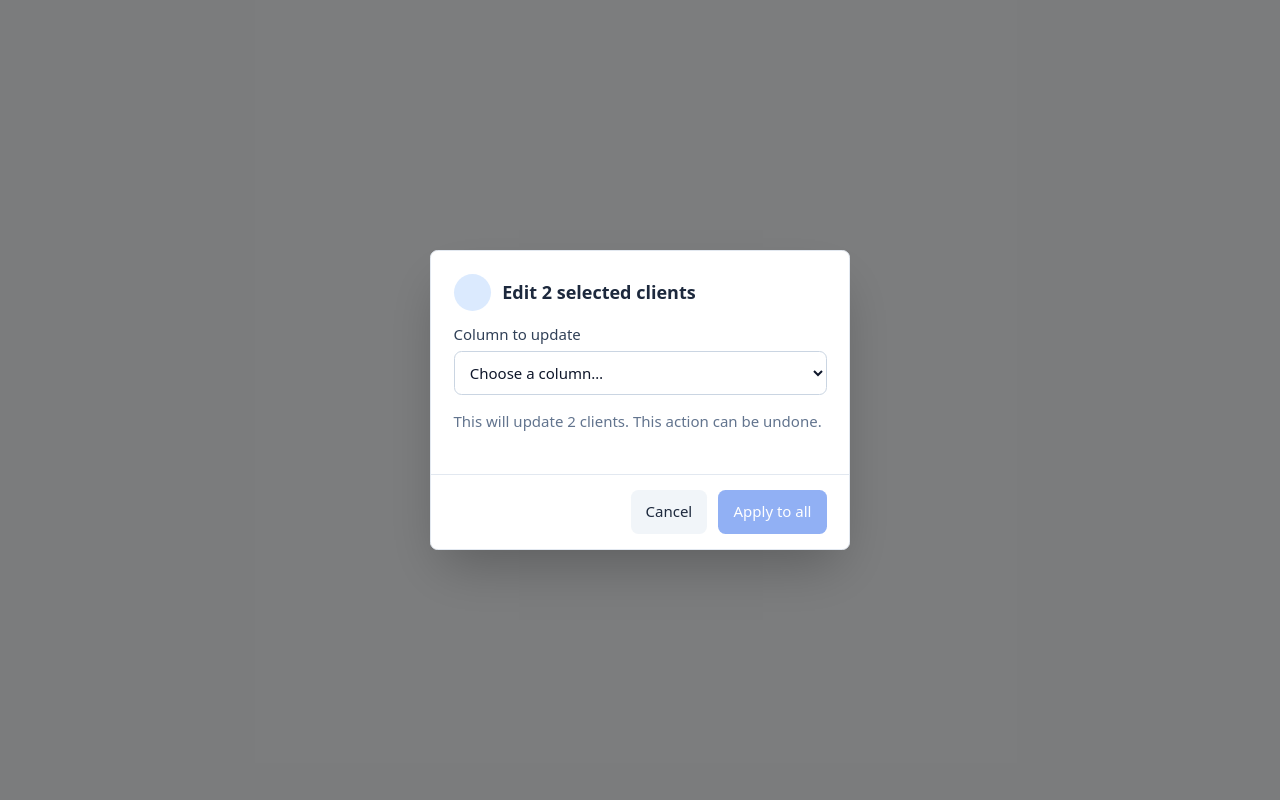
BulkEditDialog › starts on "Choose a column…" with Apply off, and lists the name column last with a warning (UX-B-11)
Expected: the button "Apply to all" is disabled, left=718, top=490, right=826, bottom=534
Expected: the field labelled "New value" is not shown
Select "Name (this renames them all)" in the dropdown labelled "Column to update" at (640, 373), box left=454, top=351, right=826, bottom=395
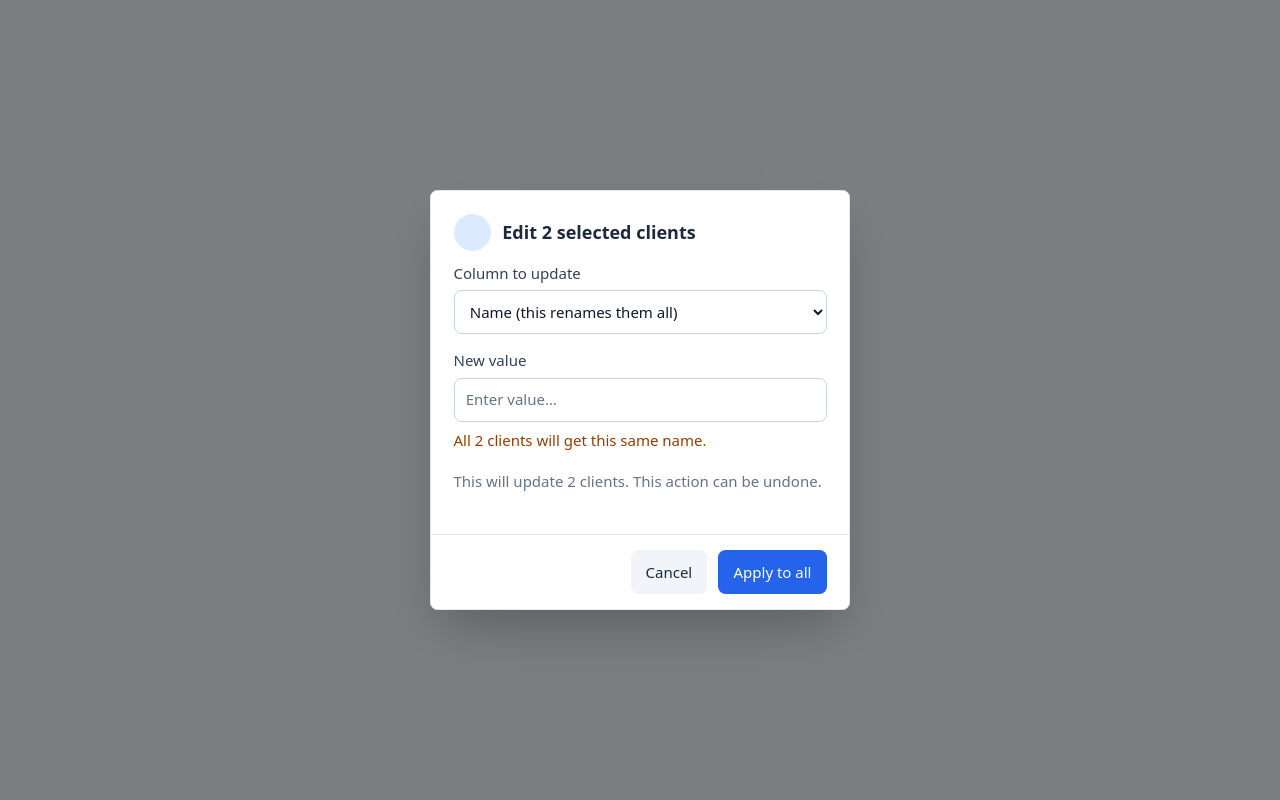
Expected: the message reads "All 2 clients will get this same name.", left=454, top=430, right=706, bottom=450
Expected: the button "Apply to all" is enabled, left=718, top=550, right=826, bottom=594
